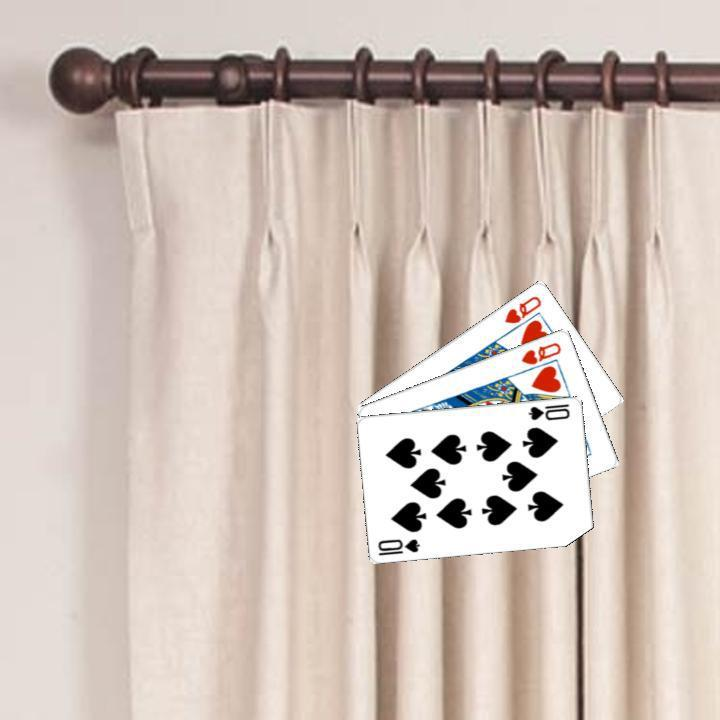10: (524, 399, 572, 422), (374, 534, 422, 557)
Q: (500, 291, 544, 325), (517, 337, 563, 366)
